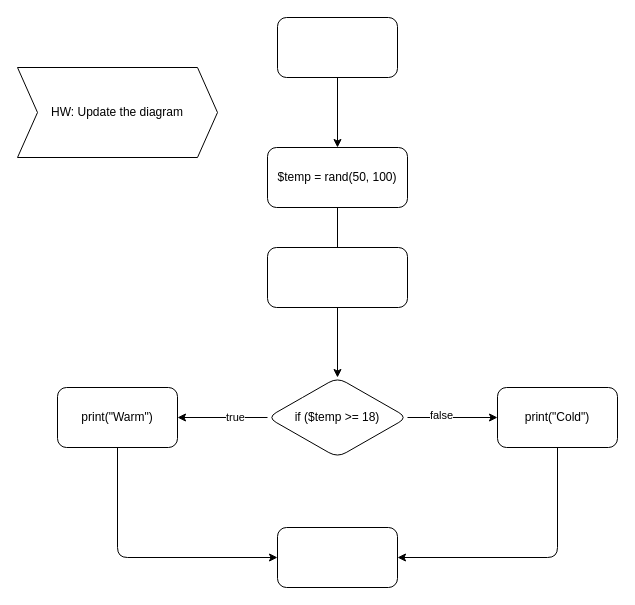
The diagram is 635 pixels wide and 605 high, and some of its shapes have lost their labels. The shapes that lost their labels are listed below. From the top down, each one's centre as x and y in pixels, then its label:
(x=337, y=47): START
(x=337, y=277): print($temp); print(" ");
(x=337, y=557): END
